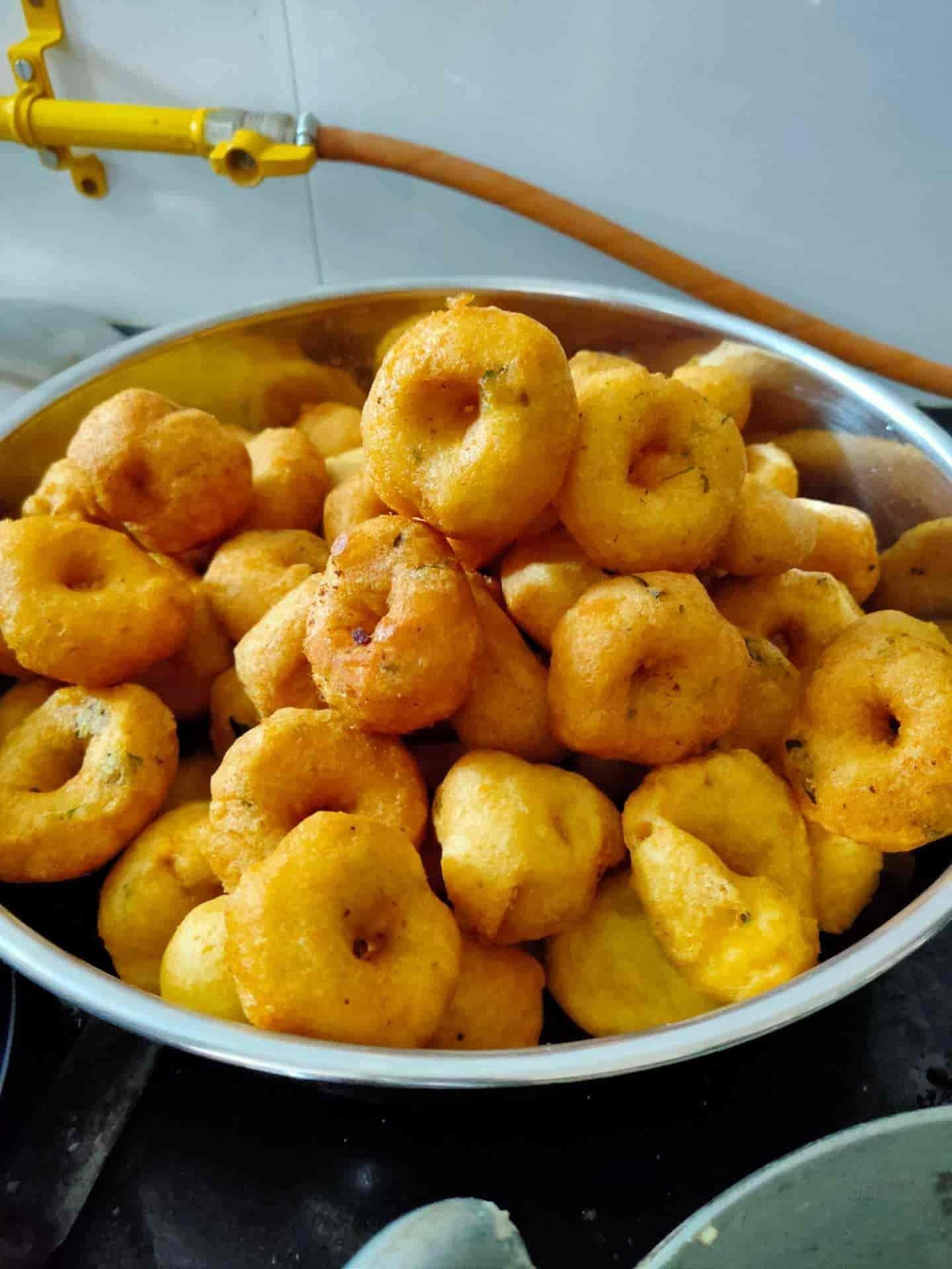mvada: (100, 361, 816, 891)
